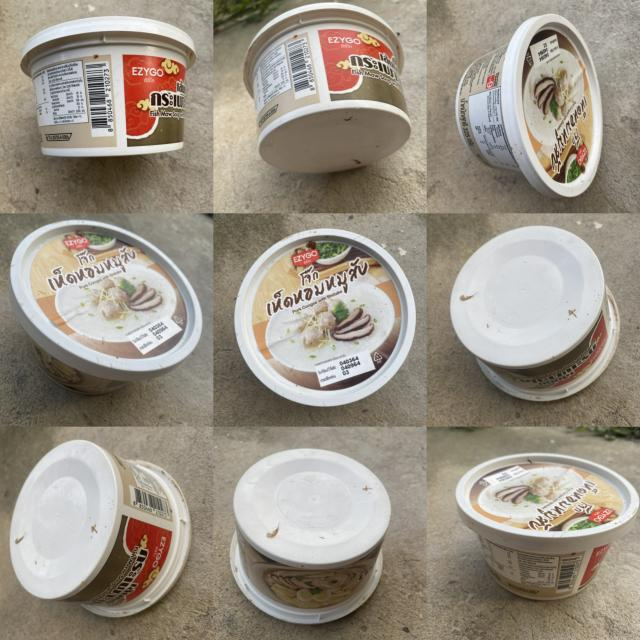Single-Use-Plastic: (9, 220, 202, 393), (235, 229, 415, 406), (10, 440, 190, 616), (450, 226, 619, 401), (244, 2, 411, 172), (230, 449, 391, 623), (455, 14, 602, 197), (456, 454, 638, 600), (21, 16, 196, 156)
